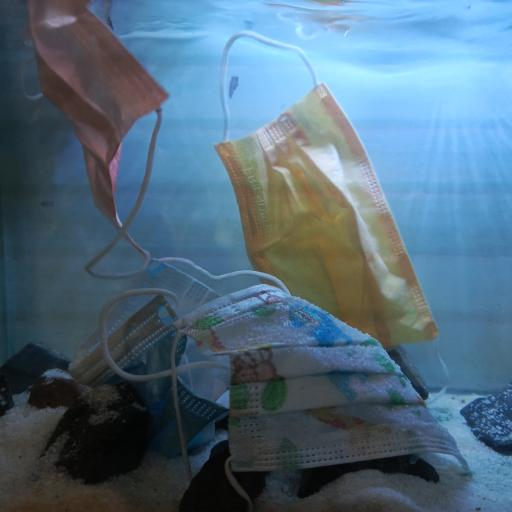mask: (212, 28, 452, 406), (98, 281, 470, 505), (66, 256, 294, 462), (20, 0, 170, 280)
